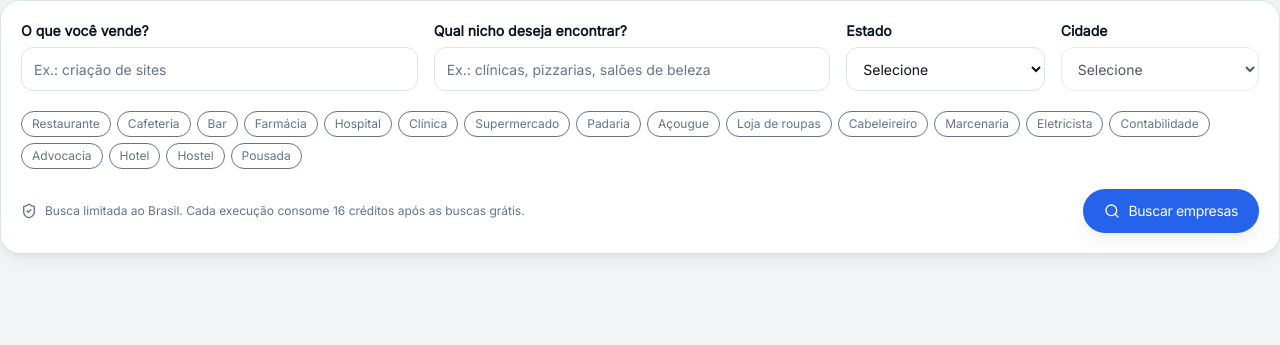
OpportunityFinderPage › shows a safe error when run creation fails
In the field labelled "O que você vende?": (219, 69) [21,47,418,91], type "  criação de sites  "
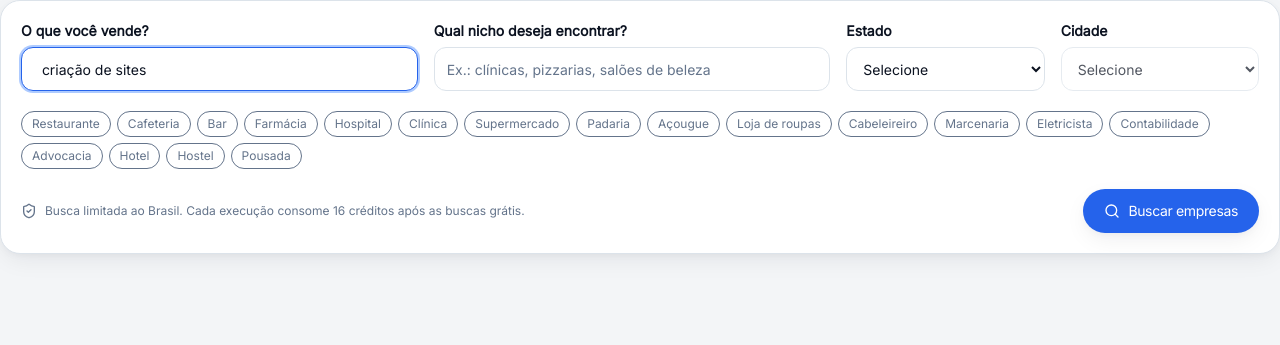
In the field labelled "Qual nicho deseja encontrar?": (632, 69) [434,47,830,91], type " clínicas "
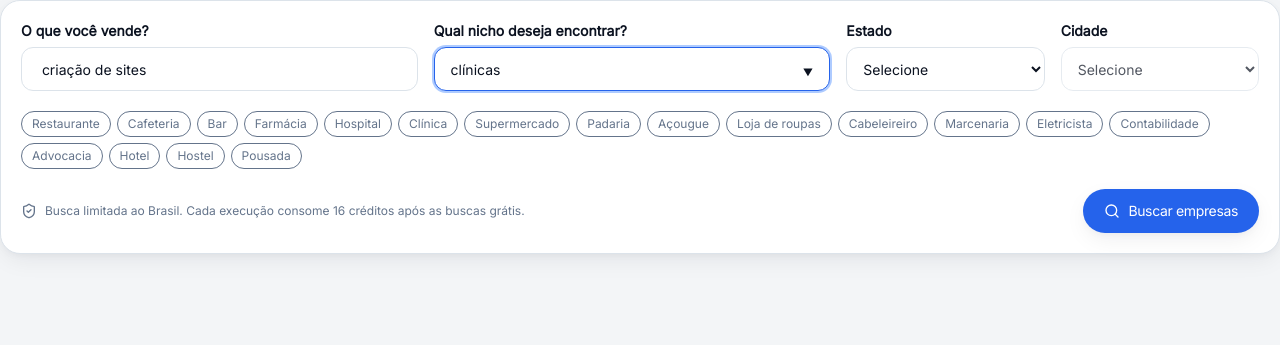
Select "São Paulo" in the dropdown labelled "Estado": (945, 69) [846,47,1045,91]
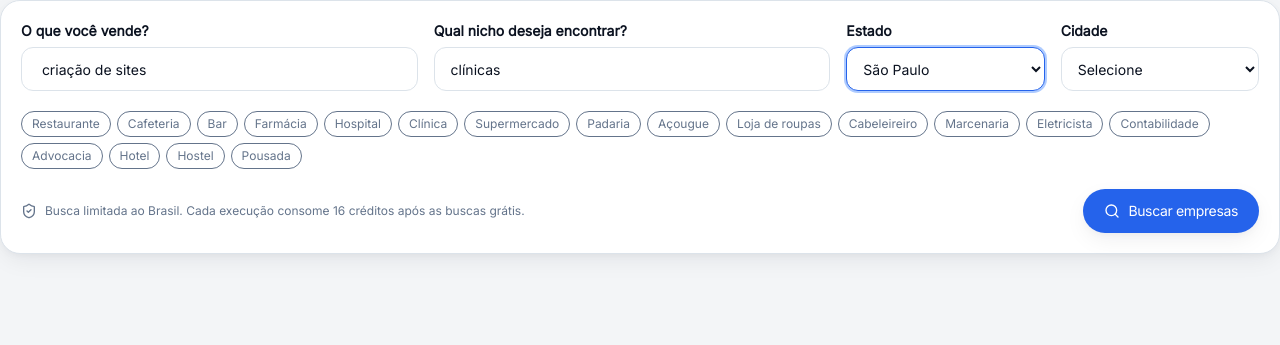
Select "Campinas" in the dropdown labelled "Cidade": (1160, 69) [1061,47,1259,91]
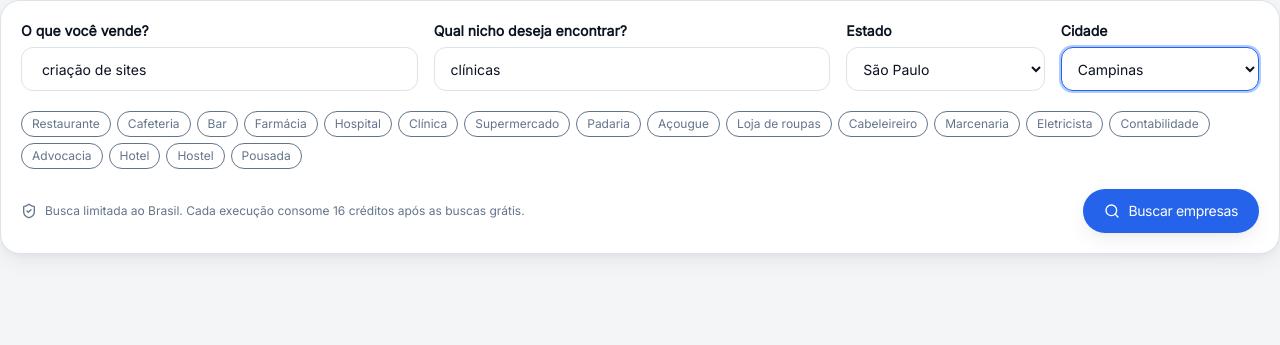
Click the button "Buscar empresas": (1171, 211) [1083,189,1259,233]
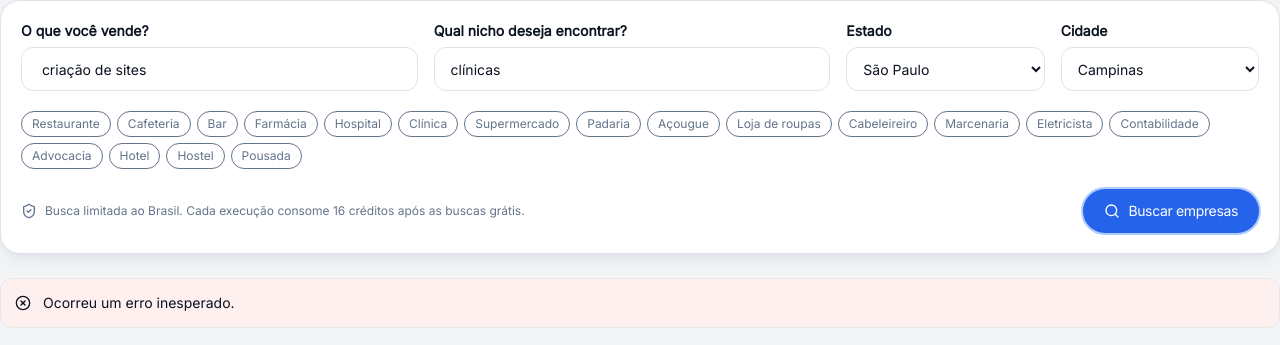
Expected: the message reads "Ocorreu um erro inesperado.", [43,294,235,311]
